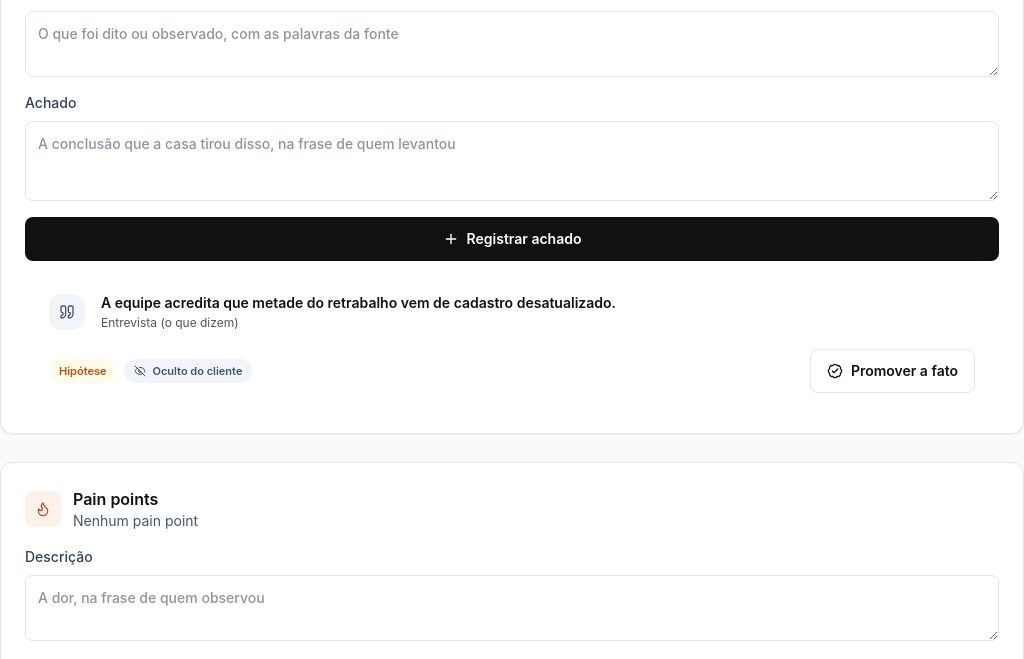
Test case: promover a fato é ato humano: manda o PATCH com o revisor e o selo muda
(page scrolled)
Expected: the text "A equipe acredita que metade do retrabalho vem de cadastro desatualizado." is shown, [101,294,616,311]
Expected: the text "Hipótese" is shown, [49,359,116,383]
Click the button "Promover a fato": (892, 371) [810,349,975,393]
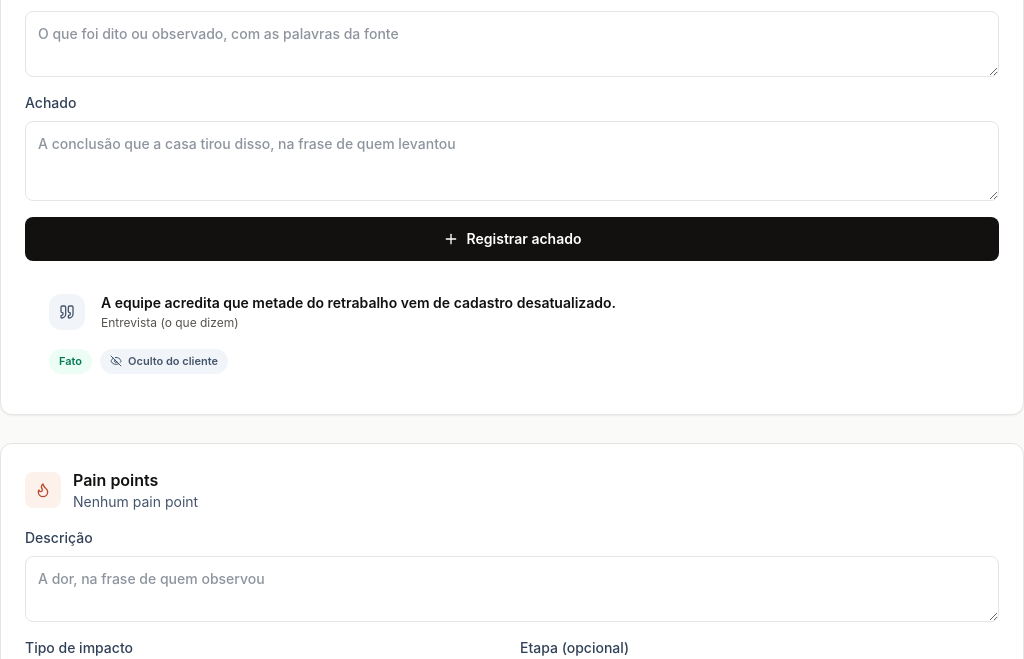
Expected: the text "A equipe acredita que metade do retrabalho vem de cadastro desatualizado." is shown, [101,294,616,311]
Expected: the text "Fato" is shown, [49,349,92,374]
